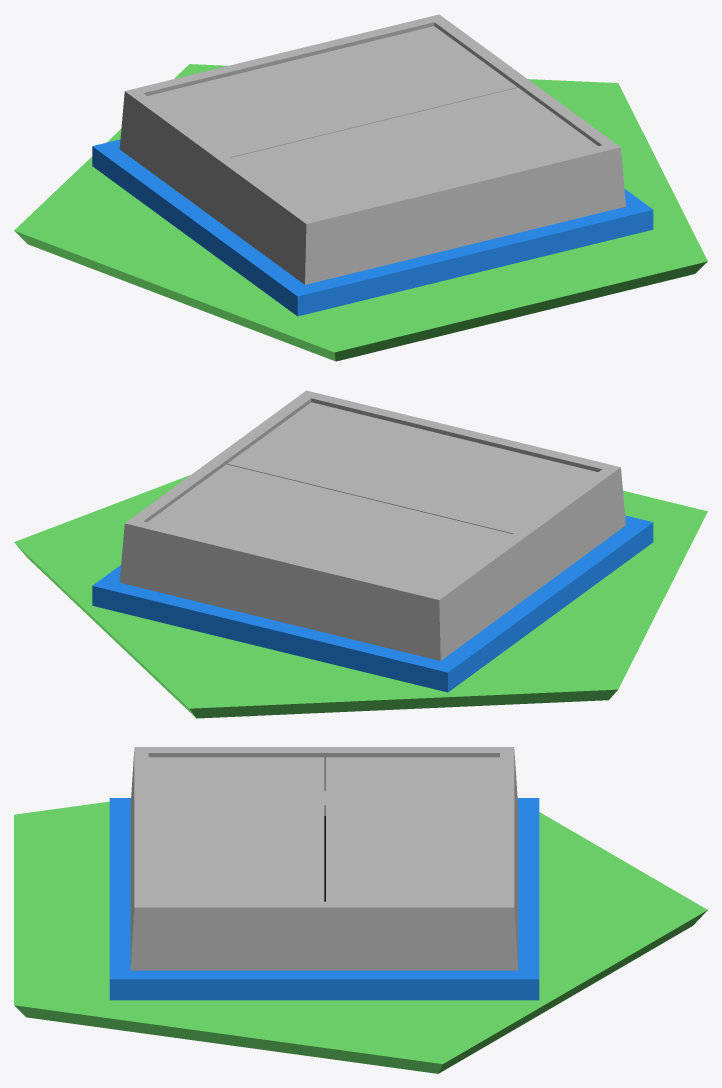
The model's file is turret_1.fbx.
3 views of the same model, one above another, from view 1: azimuth 30°, elevation 25°; view 2: azimuth 150°, elevation 25°; view 3: azimuth 270°, elevation 25° (orthographic). The views are drawn at different scales.
Visible parts, largest first — view 1: Cube.003, DodecagonVideTuile.001, Cube.005, Cube.004; view 2: Cube.003, DodecagonVideTuile.001, Cube.004, Cube.005; view 3: DodecagonVideTuile.001, Cube.003, Cube.004, Cube.005.
Boxes of the visible parts, bbox=[...] form: Cube.003: bbox=[92, 14, 653, 316]; DodecagonVideTuile.001: bbox=[14, 64, 707, 361]; Cube.005: bbox=[147, 26, 517, 157]; Cube.004: bbox=[232, 87, 597, 215]; Cube.003: bbox=[92, 390, 653, 692]; DodecagonVideTuile.001: bbox=[14, 475, 707, 718]; Cube.004: bbox=[227, 402, 597, 534]; Cube.005: bbox=[148, 464, 512, 592]; DodecagonVideTuile.001: bbox=[14, 801, 707, 1073]; Cube.003: bbox=[109, 747, 539, 1000]; Cube.004: bbox=[148, 757, 324, 901]; Cube.005: bbox=[326, 757, 499, 901].
Size of the model in its own units: 111 by 16.49 by 105.
